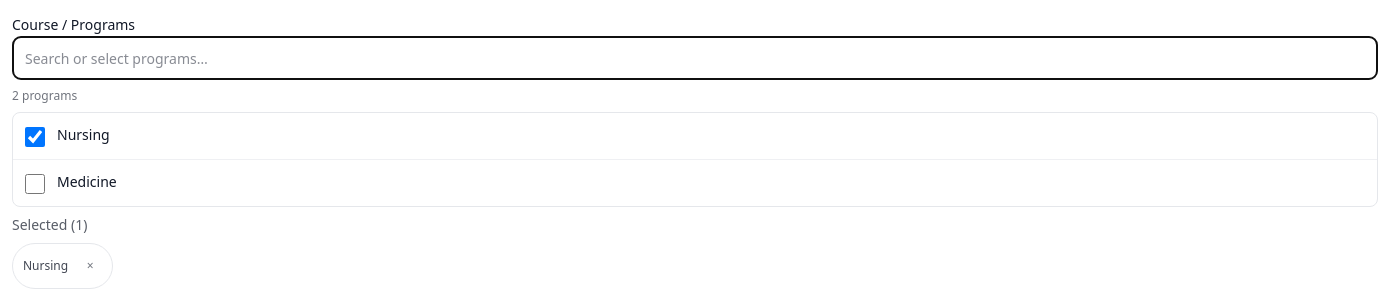
Test: CatalogMultiSelect › removing a chip deselects its checkbox
The width and height of the screenshot is (1390, 306).
Click the button named "Remove Nursing" at (90, 266), box [68,244,112,288]
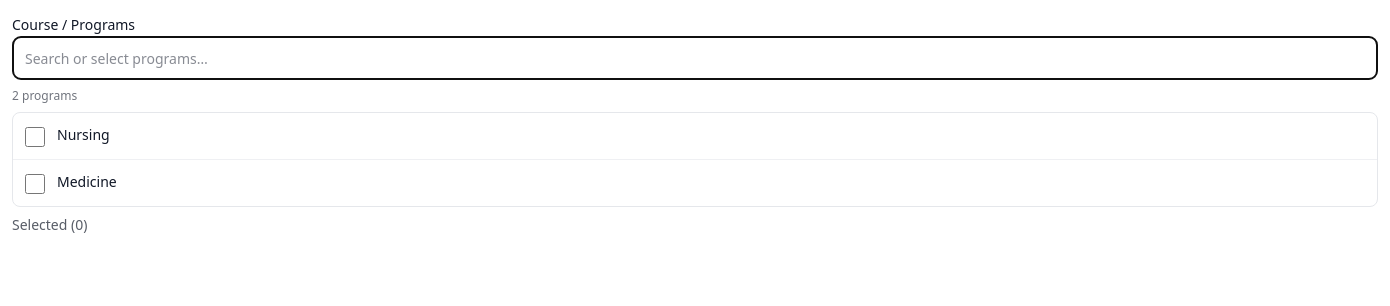
Now the checkbox labelled "Nursing" is not checked, box [25,127,45,147]
